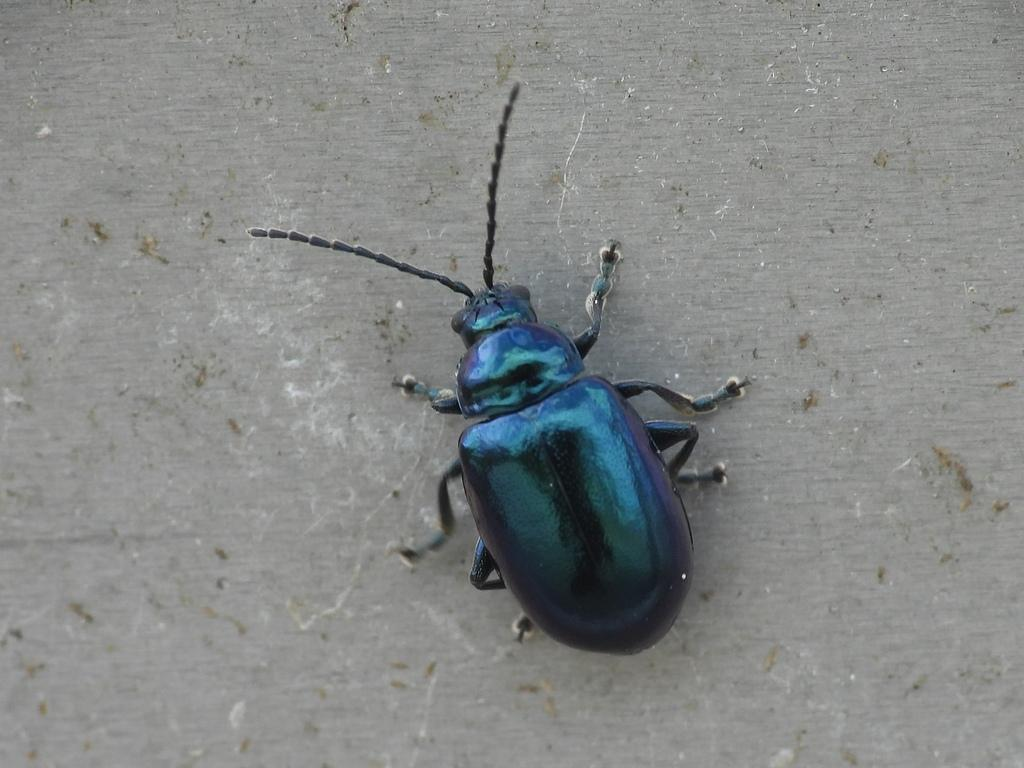flea_beetle: (180, 45, 809, 695)
